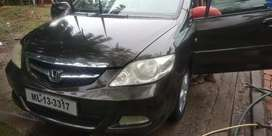ML133317: (25, 87, 76, 115)
